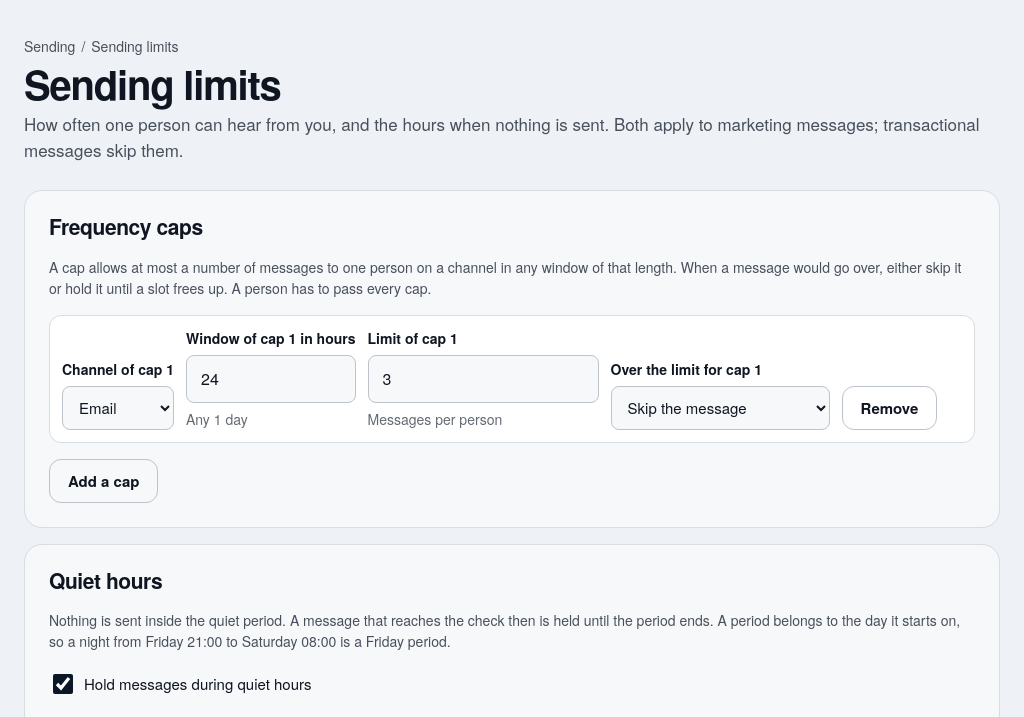
Test: sending limits › keeps the draft and offers the latest settings when they changed since the page was opened
Replace the text in the number field labelled "Limit of cap 1" with "9". click: (483, 379)
box: left=368, top=355, right=598, bottom=403
(page scrolled)
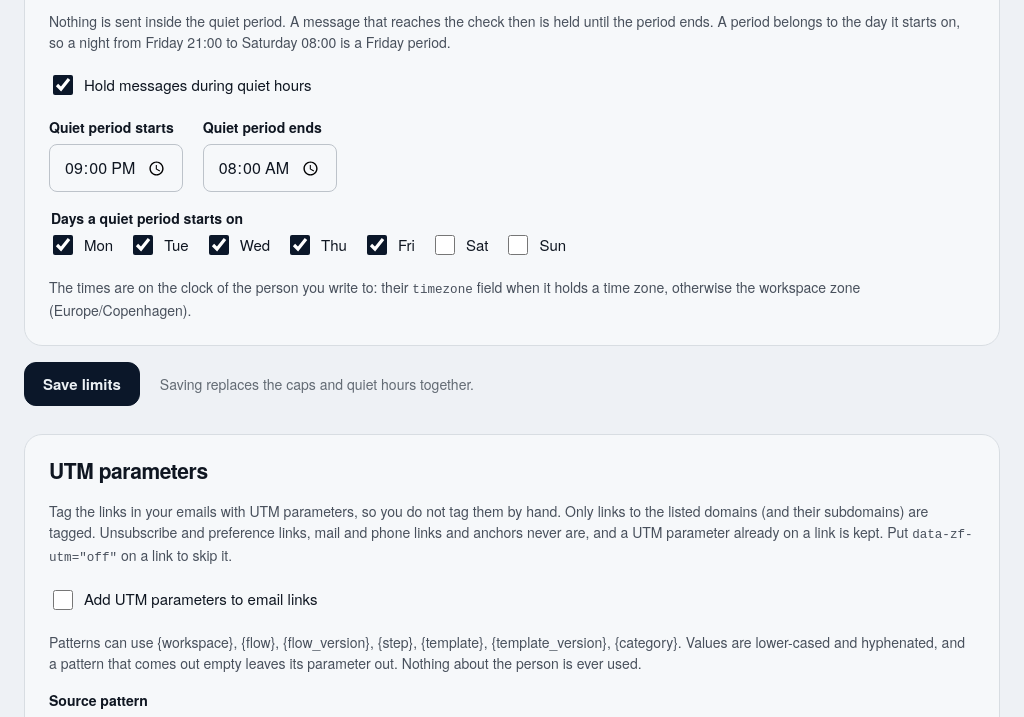
Click the button "Save limits". click: click(82, 384)
box: left=24, top=362, right=140, bottom=406
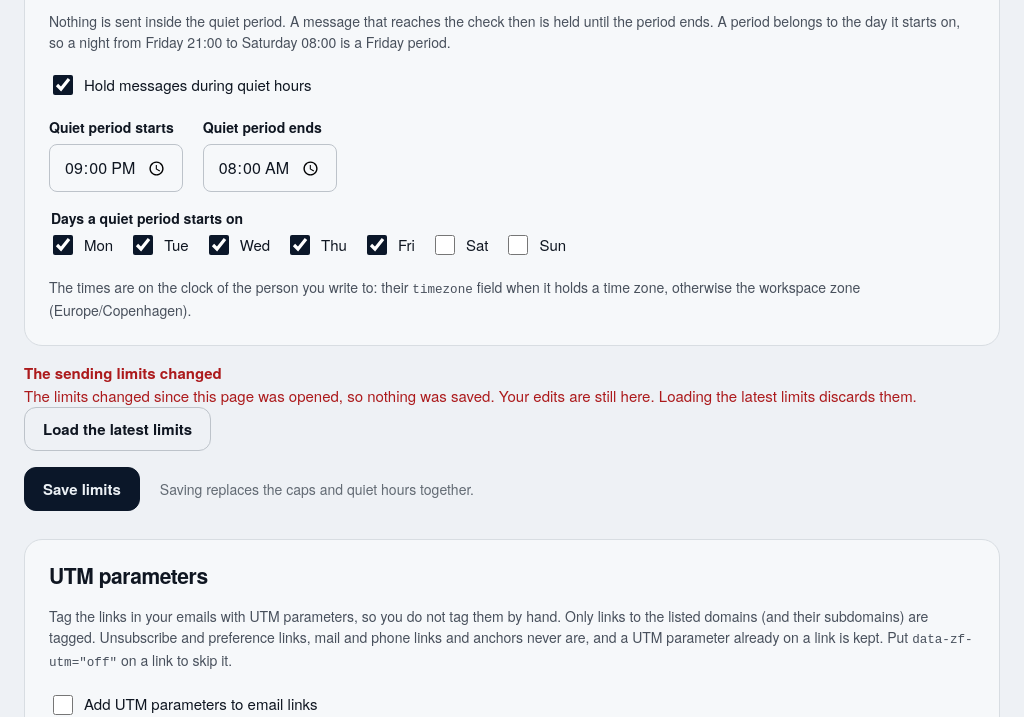
Check: the message shows "changed since this page was opened", box left=24, top=385, right=917, bottom=406
Click the button "Load the latest limits". click: click(118, 429)
box: left=24, top=407, right=211, bottom=451
(page scrolled)
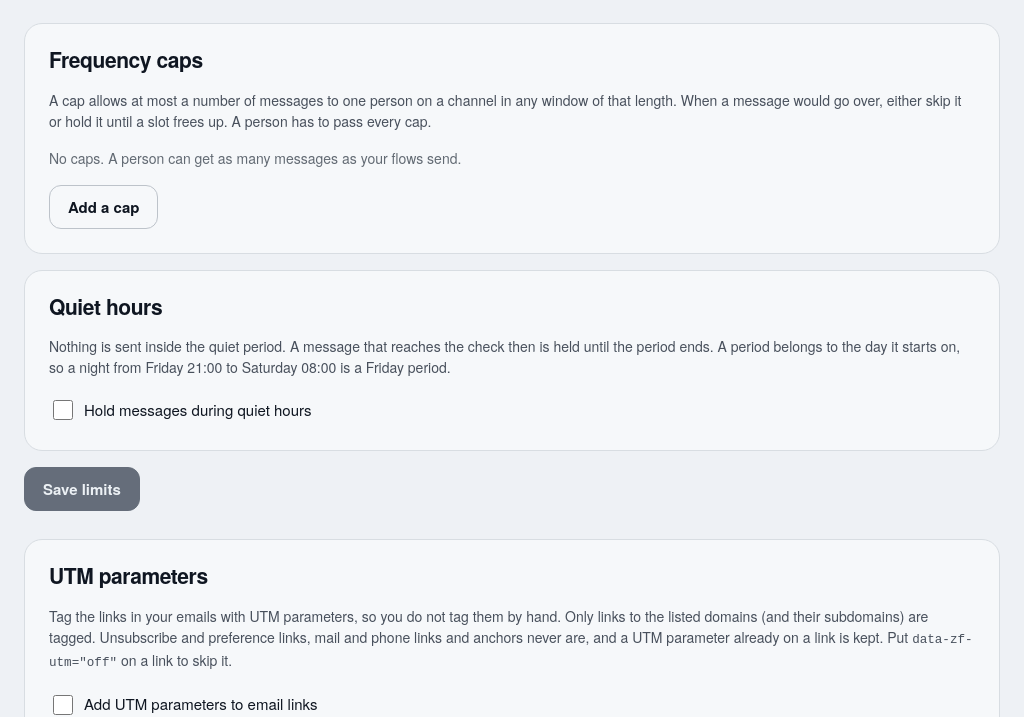
Check: the text "No caps." is shown, box left=49, top=148, right=461, bottom=168
Check: the message is gone
Check: the checkbox labelled "Hold messages during quiet hours" is not checked, box left=53, top=400, right=73, bottom=420
